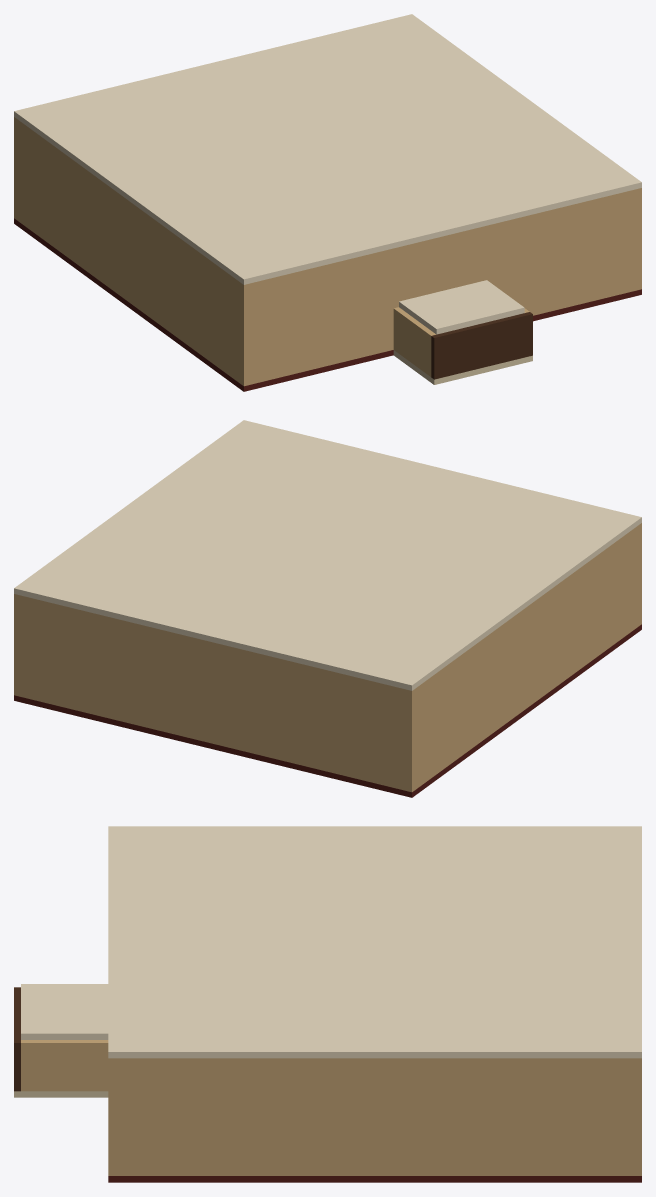
Rendered from hall_251.glb.
3 views of the same model, one above another, from view 1: azimuth 30°, elevation 25°; view 2: azimuth 150°, elevation 25°; view 3: azimuth 270°, elevation 25° (orthographic). The views are drawn at different scales.
Parts seen in each view (by area): view 1: hall_251 ceiling, hall_251 wall, hall_251 wood, hall_251 carpet, hall_251 floor; view 2: hall_251 ceiling, hall_251 wall, hall_251 carpet; view 3: hall_251 ceiling, hall_251 wall, hall_251 carpet, hall_251 wood, hall_251 floor.
Part boxes in pixels (bbox=[...]): hall_251 ceiling: bbox=[14, 14, 641, 334]; hall_251 wall: bbox=[14, 117, 641, 386]; hall_251 wood: bbox=[431, 312, 532, 379]; hall_251 carpet: bbox=[14, 218, 641, 391]; hall_251 floor: bbox=[393, 350, 532, 384]; hall_251 ceiling: bbox=[14, 420, 641, 690]; hall_251 wall: bbox=[14, 523, 641, 792]; hall_251 carpet: bbox=[14, 624, 641, 797]; hall_251 ceiling: bbox=[21, 826, 641, 1058]; hall_251 wall: bbox=[21, 1040, 641, 1175]; hall_251 carpet: bbox=[108, 1176, 641, 1182]; hall_251 wood: bbox=[14, 987, 20, 1091]; hall_251 floor: bbox=[14, 1091, 108, 1097].
Size of what is drawn, in the model's own units: 45.2 by 12.2 by 53.2.
